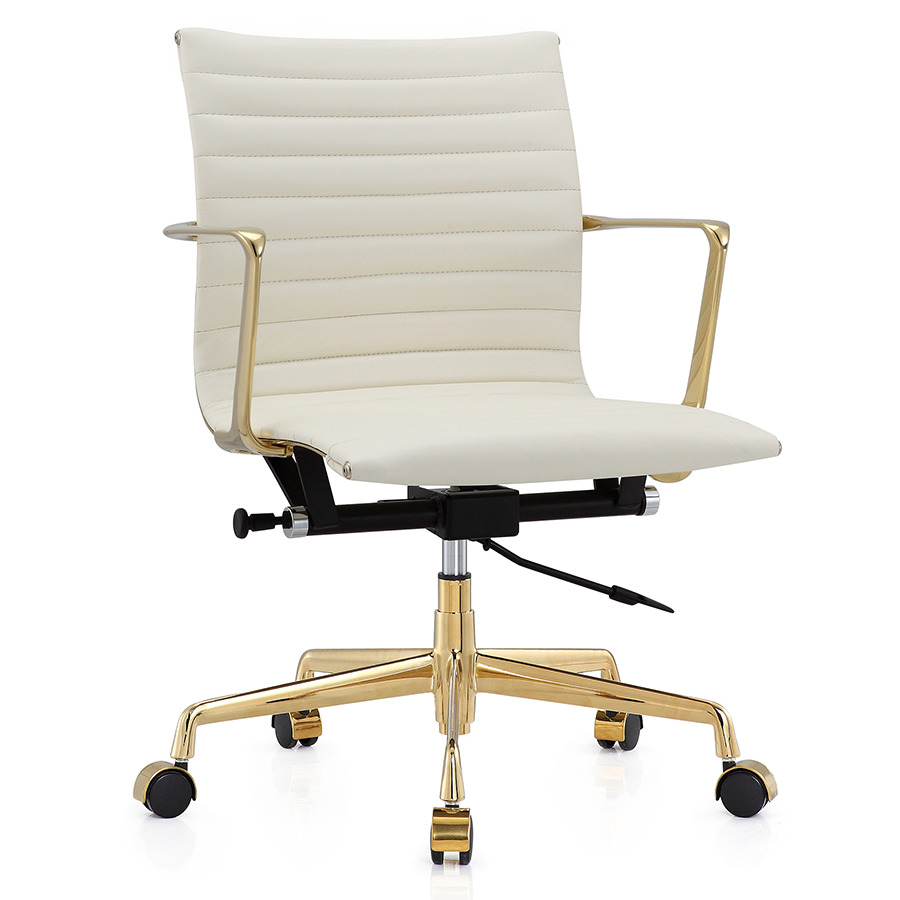chairs: (150, 10, 789, 873)
